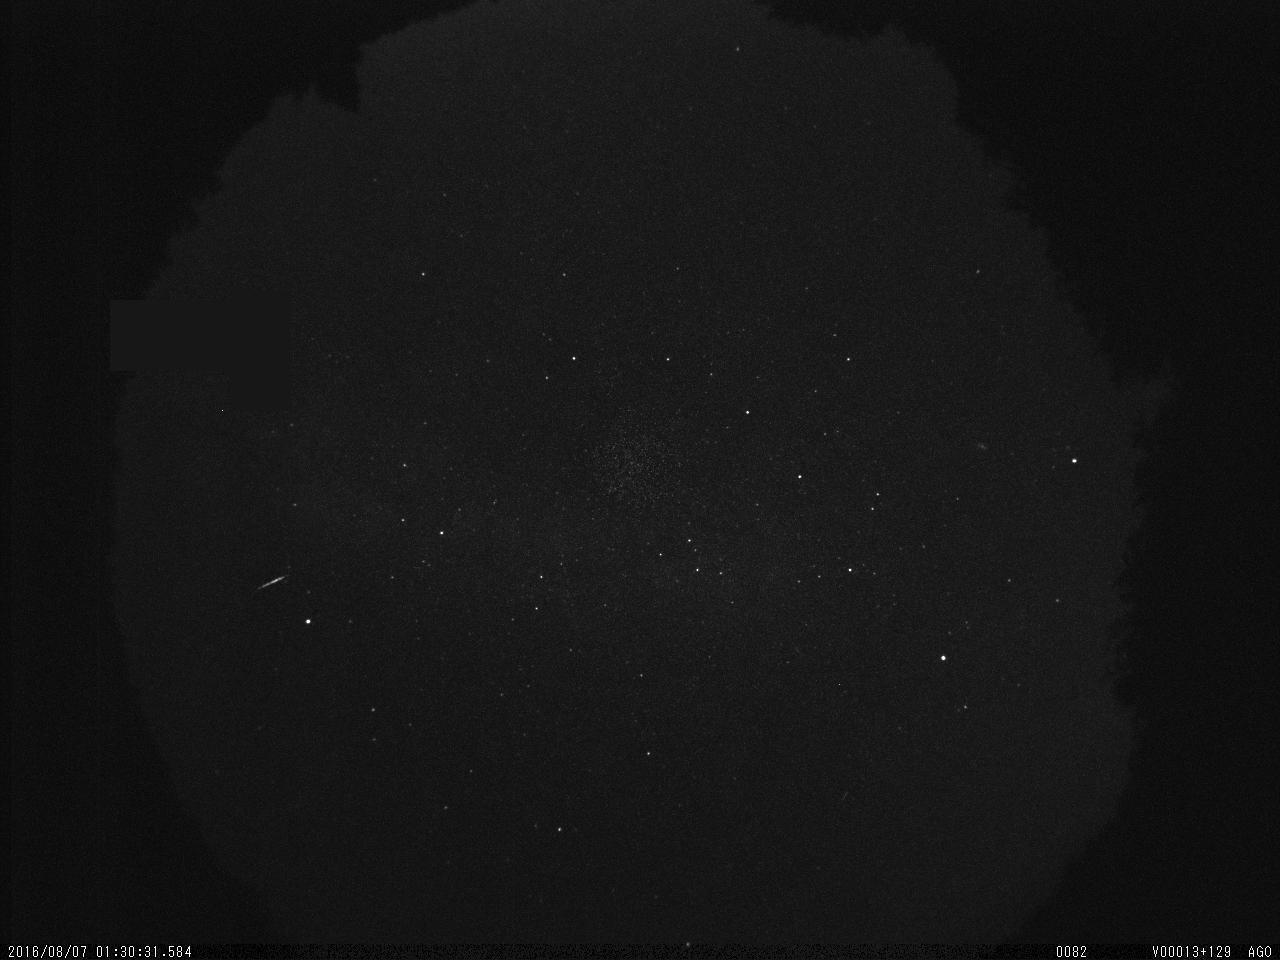Meteor: (255, 572, 288, 591)
